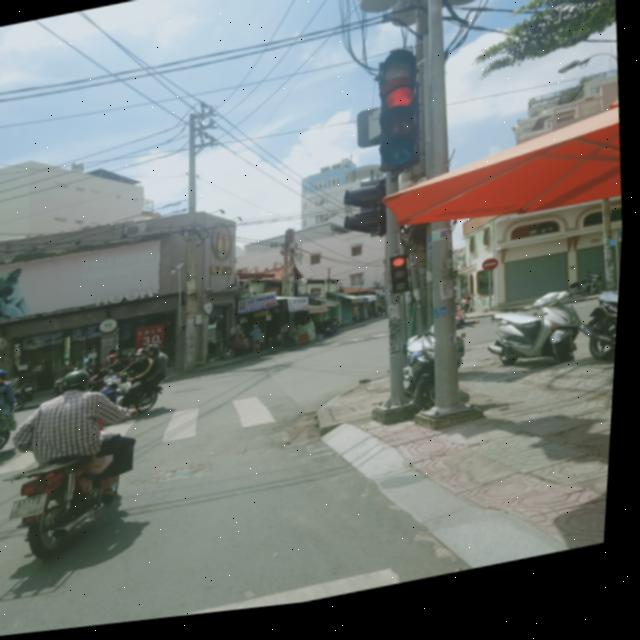Red: (369, 87, 432, 187), (385, 258, 416, 305)
